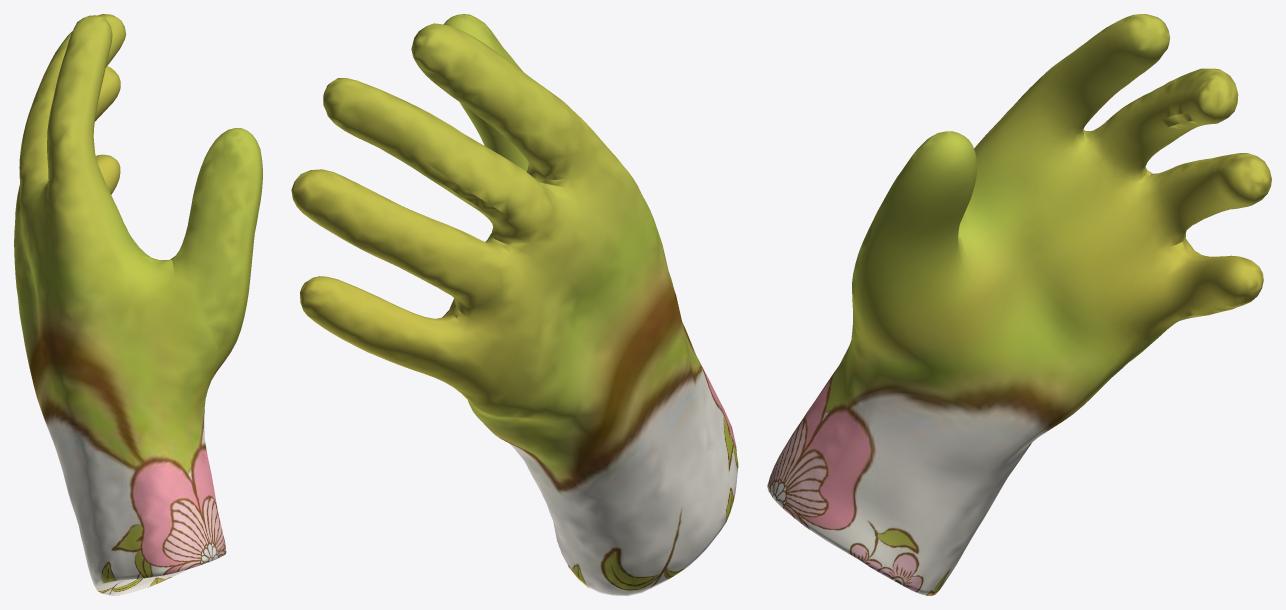
The model's file is LeftPinkGlow.fbx.
The picture shows the model from 3 angles, left to right: view 1: azimuth 30°, elevation 25°; view 2: azimuth 150°, elevation 25°; view 3: azimuth 270°, elevation 25°; orthographic projection. The views are drawn at different scales.
Visible parts, largest first — view 1: Sketchfab Model.007; view 2: Sketchfab Model.007; view 3: Sketchfab Model.007.
Boxes of the visible parts, left/top/right/bottom form: Sketchfab Model.007: left=14, top=14, right=262, bottom=595; Sketchfab Model.007: left=291, top=14, right=738, bottom=595; Sketchfab Model.007: left=767, top=14, right=1271, bottom=595.
Bounding box in the file's own units: 22.84 × 57.17 × 43.7.
Materials: 1 (1 with a texture image).
